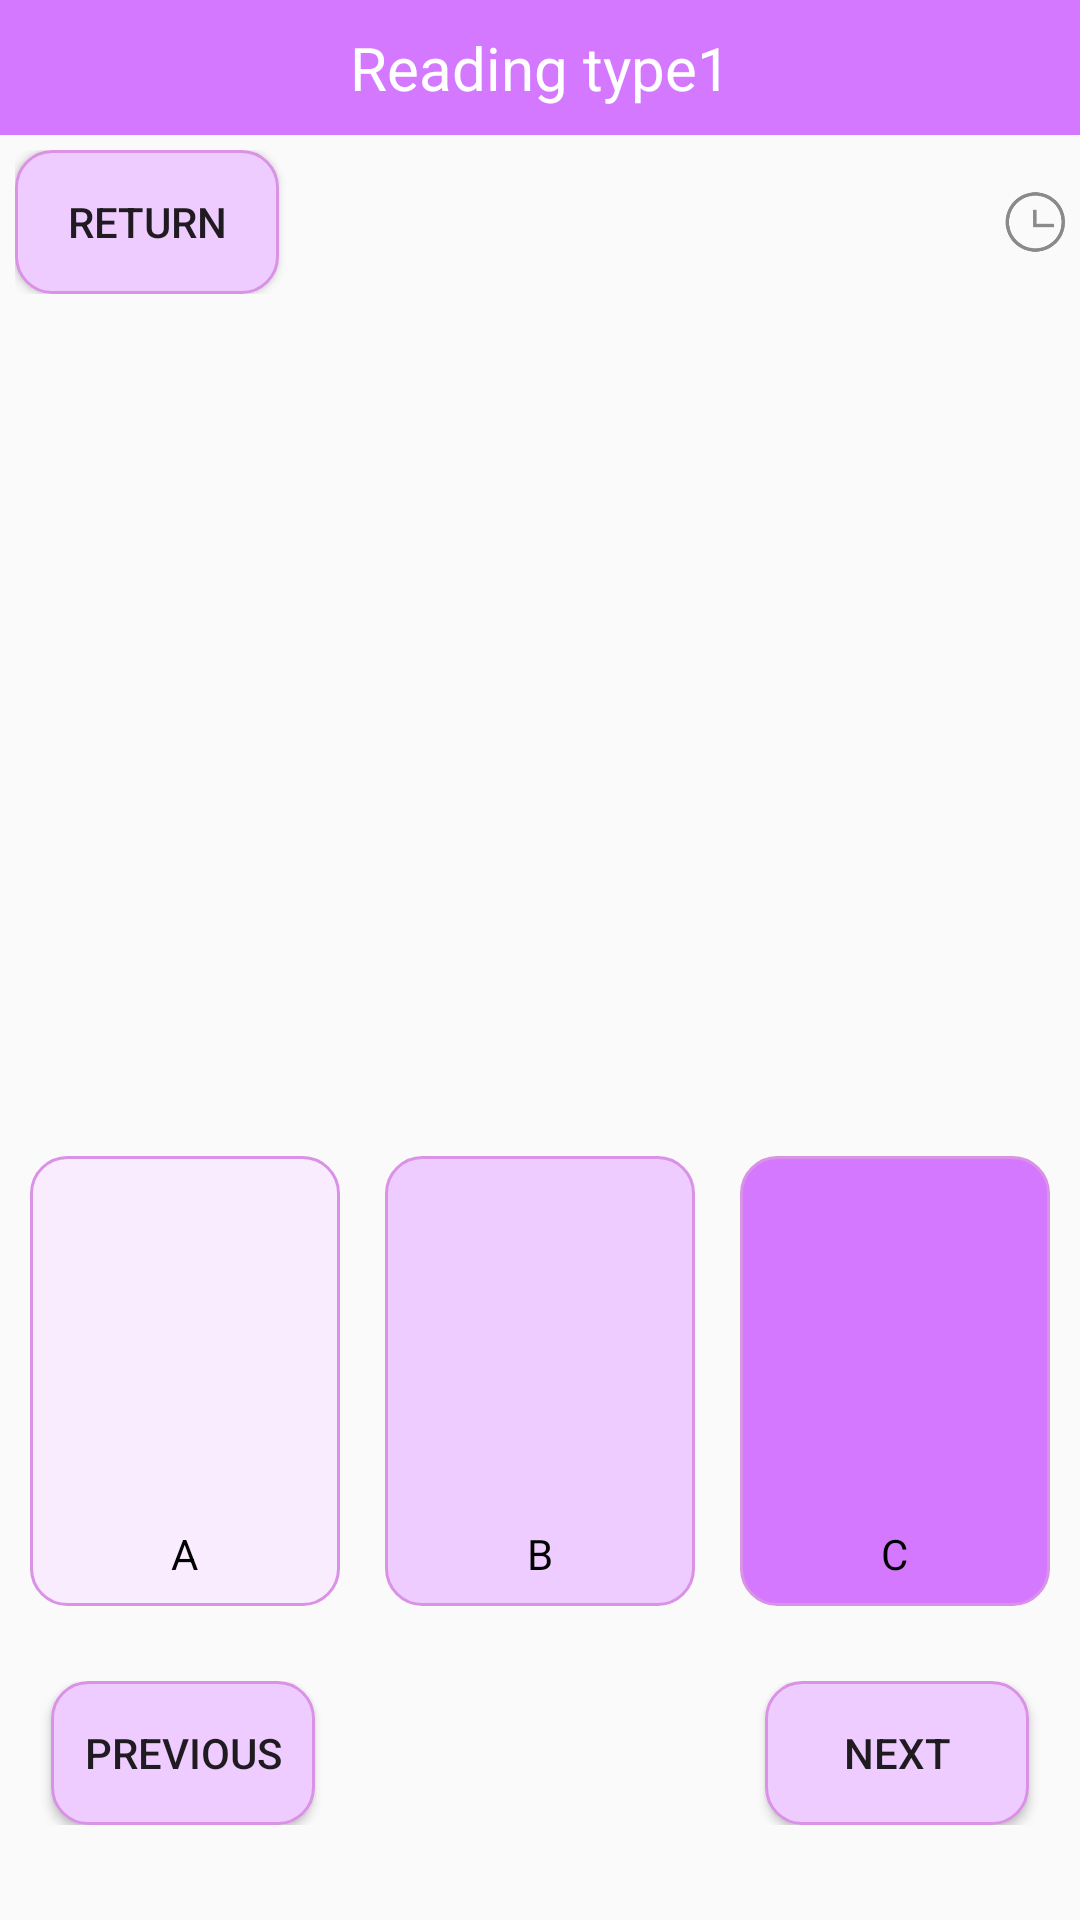

Icon click points for this 1080x1920 phone screenshot, format point (x, y):
time: point (1035, 222)
